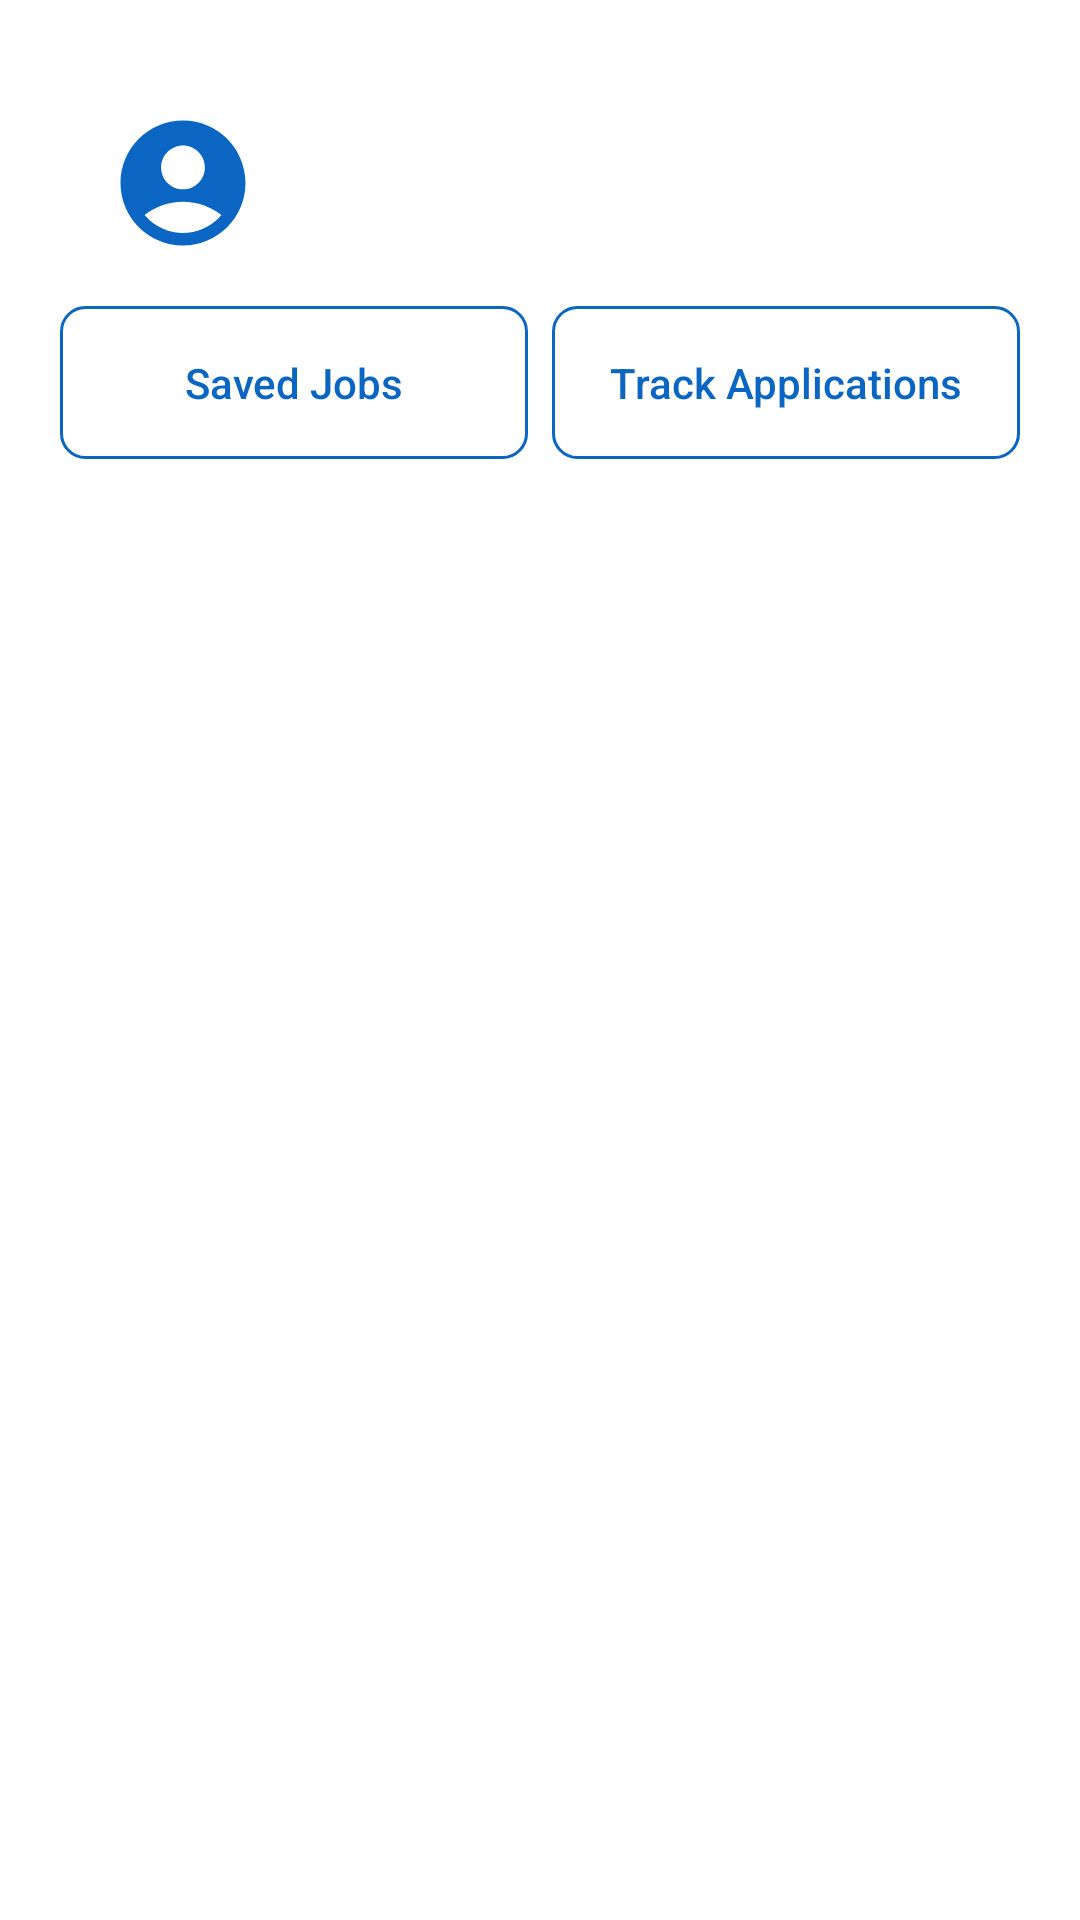

Point at icon controls on the screen. Image size 1080 × 1920, points as (x=x, y=y).
Profile Photo: (x=183, y=183)
